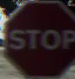Stop: (0, 1, 72, 69)
